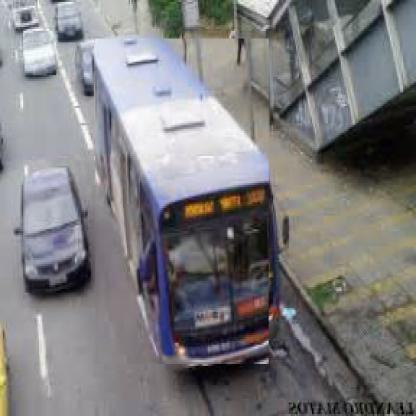bus: (95, 39, 270, 367)
car: (23, 161, 85, 296), (24, 32, 57, 78), (75, 40, 95, 99), (57, 5, 85, 45)
